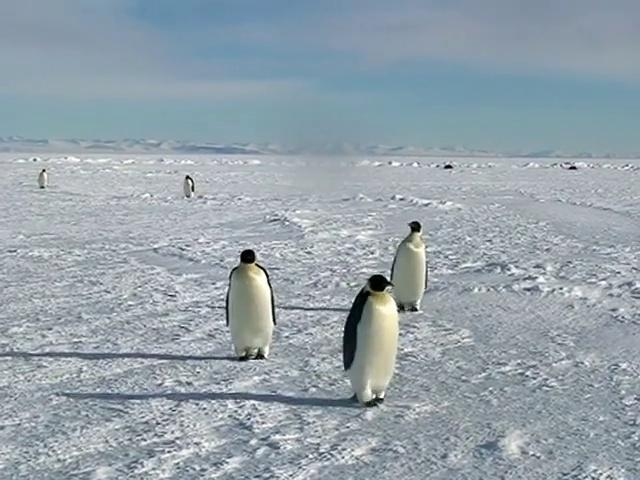animal: (391, 222, 429, 312)
